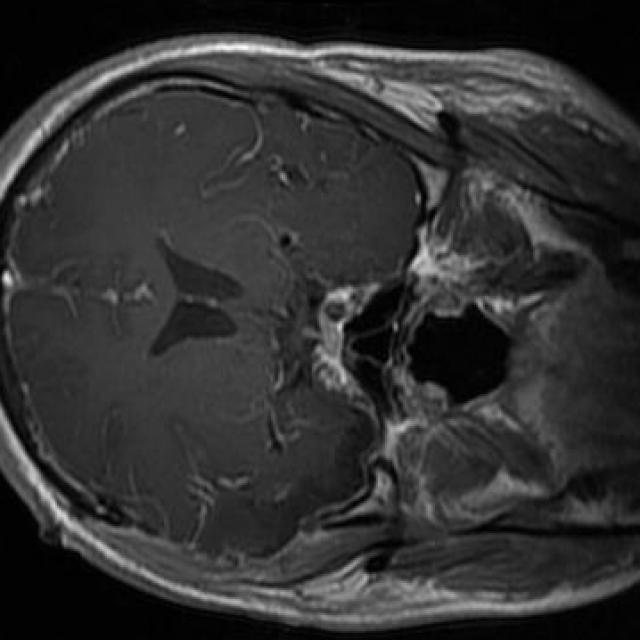glioma: (201, 405, 376, 556)
